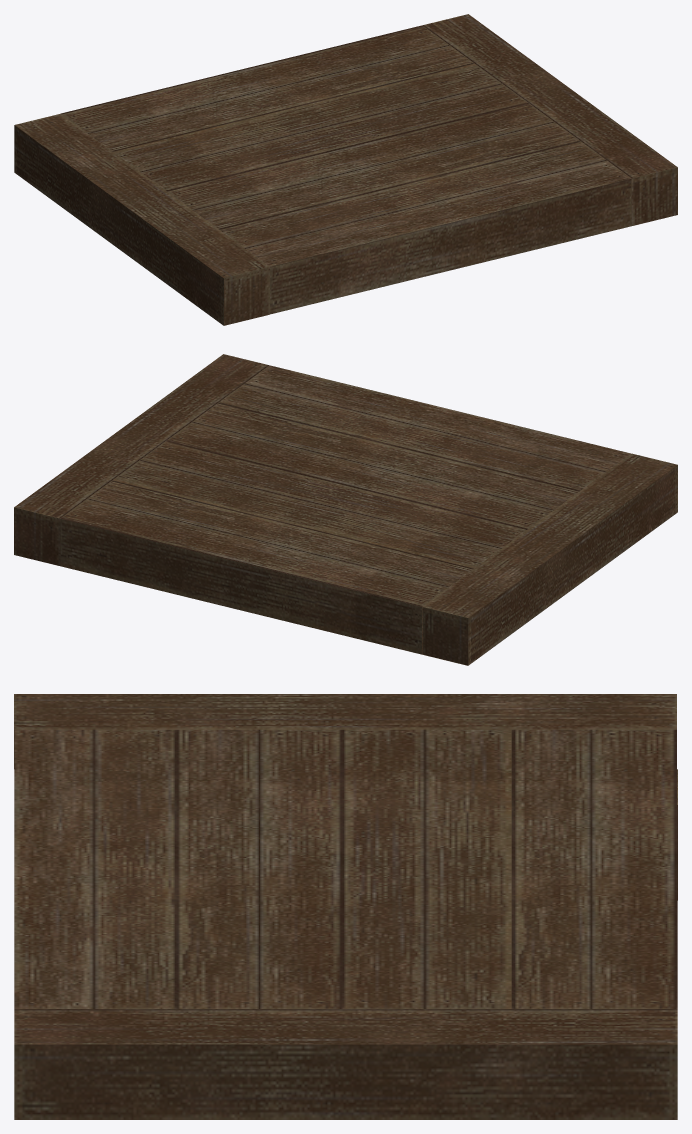
Rendered from SM_TI_Wood_1_Panel_0.fbx.
3 renders of one model, top to bottom at view 1: azimuth 30°, elevation 25°; view 2: azimuth 150°, elevation 25°; view 3: azimuth 270°, elevation 25°, orthographic. The views are drawn at different scales.
Visible parts, largest first — view 1: SM_TI_Wood_1_Panel_0; view 2: SM_TI_Wood_1_Panel_0; view 3: SM_TI_Wood_1_Panel_0.
Boxes of the visible parts, bbox=[...] form: SM_TI_Wood_1_Panel_0: bbox=[14, 14, 677, 325]; SM_TI_Wood_1_Panel_0: bbox=[14, 354, 677, 665]; SM_TI_Wood_1_Panel_0: bbox=[14, 694, 677, 1119].
Bounding box in the file's own units: 5 × 4 × 0.5.
